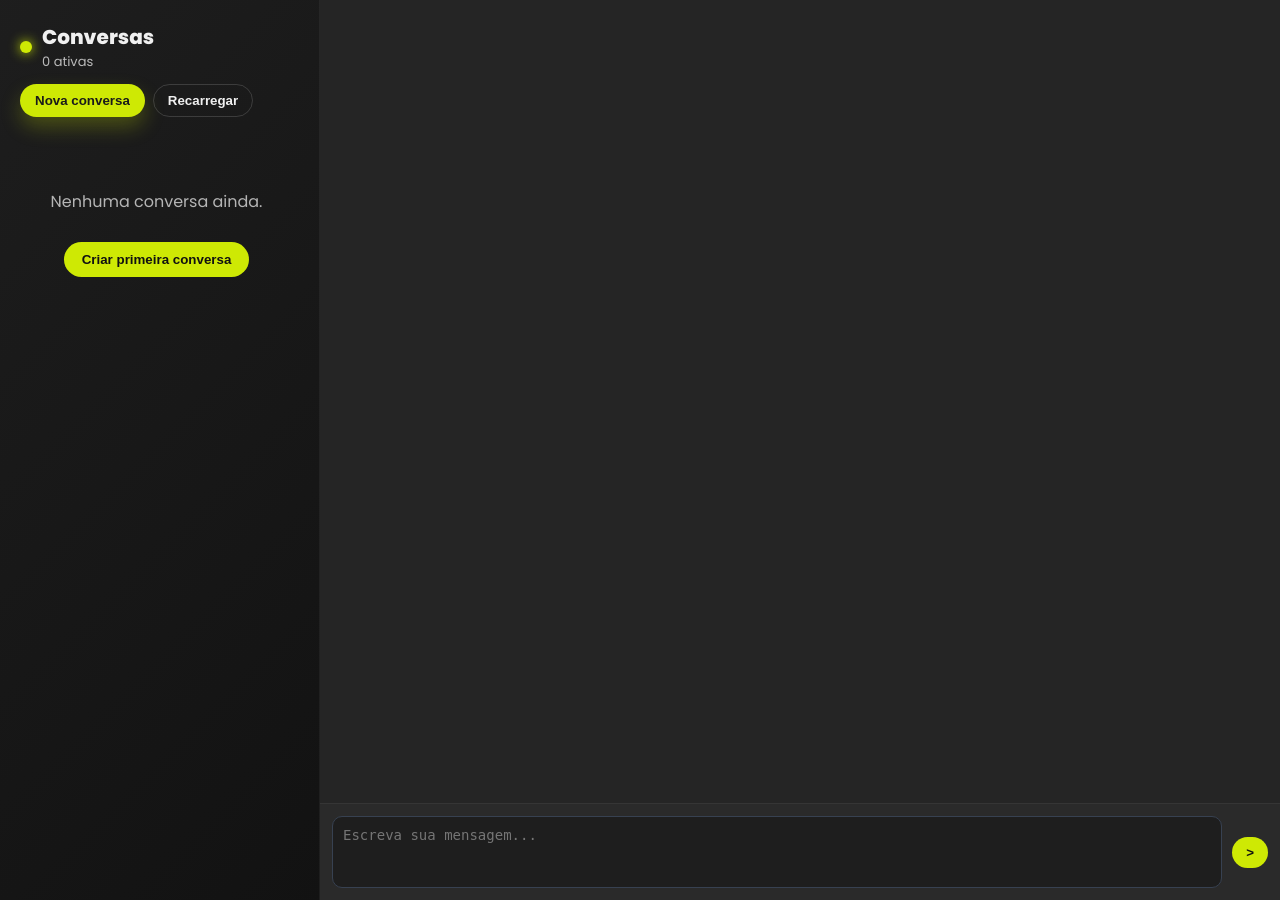
ChatView › sends message and displays assistant reply
This screenshot has width=1280, height=900.
Step 1. Type "Hi" into the text box with placeholder "Escreva sua mensagem..." → [777, 852], box top-left (332, 816), bottom-right (1222, 888)
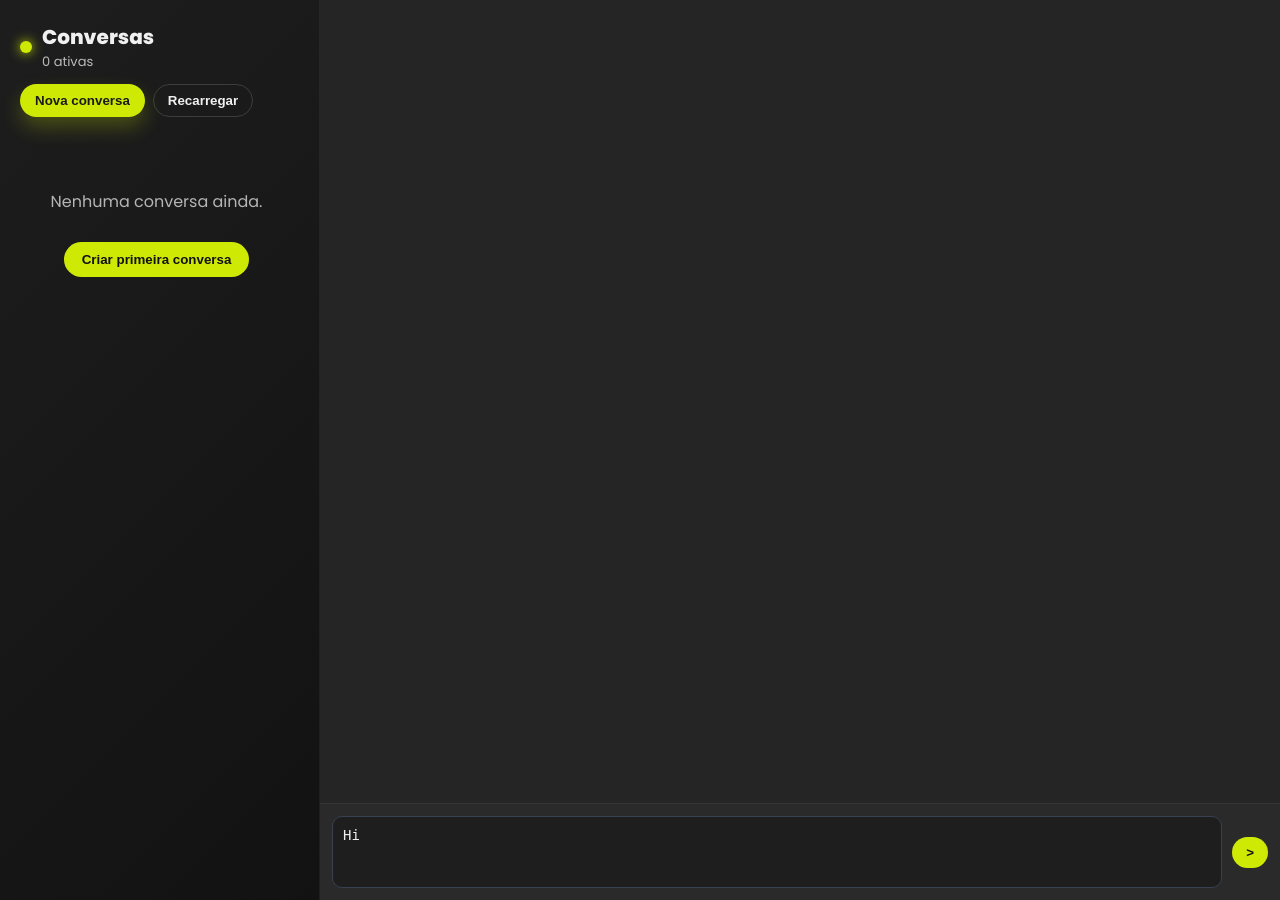
Step 2. Submit the form, box top-left (320, 803), bottom-right (1279, 899)
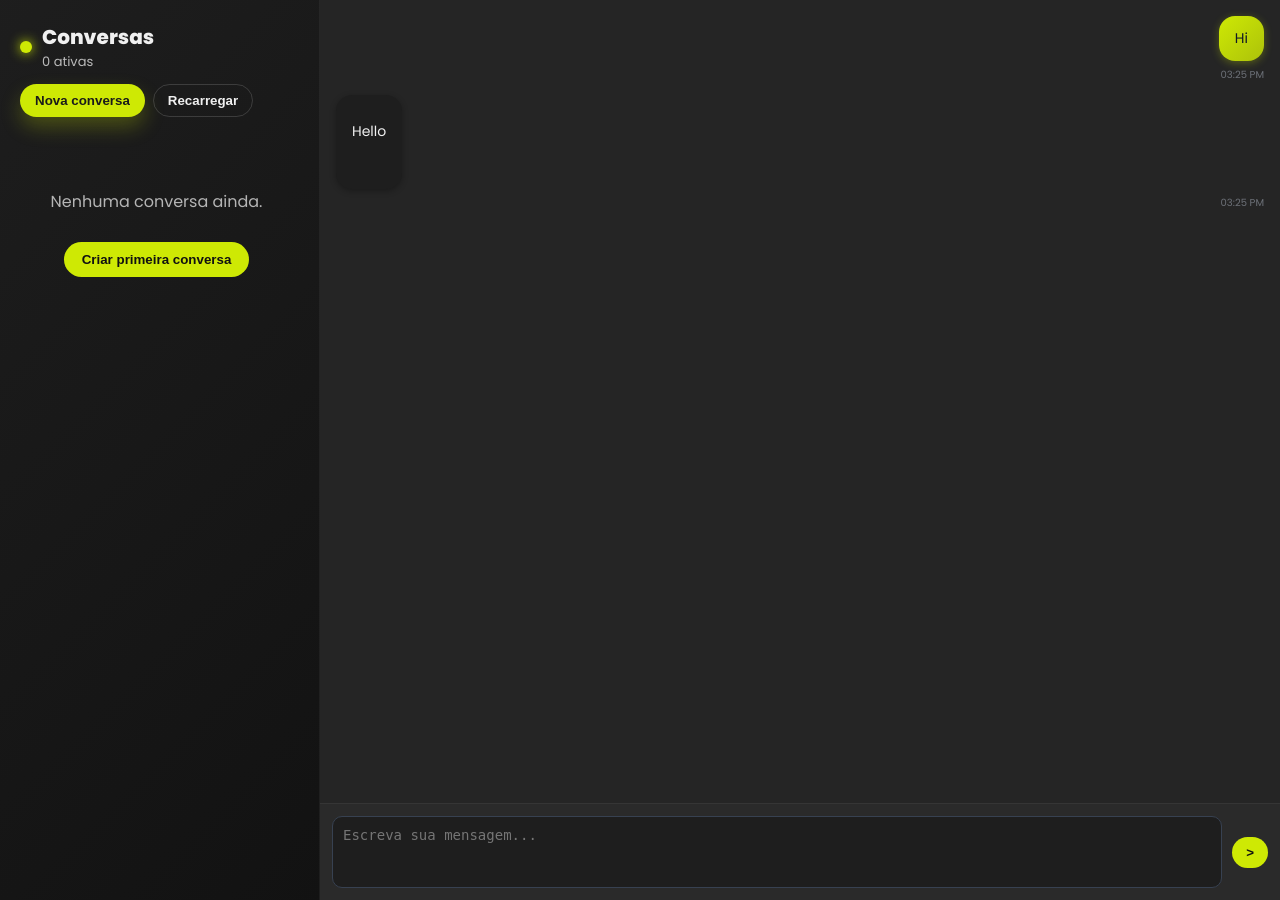
Expected: the text "Hello" is shown, top-left (352, 121), bottom-right (386, 142)
